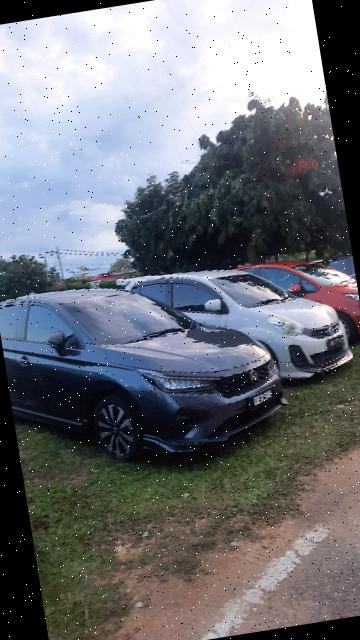License_Plate: (248, 386, 280, 410)
car: (1, 256, 311, 491)
